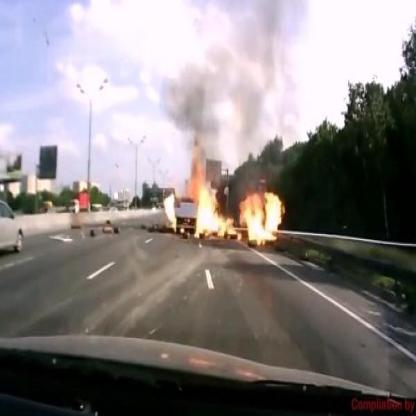fire: (193, 164, 286, 252), (162, 187, 178, 233)
